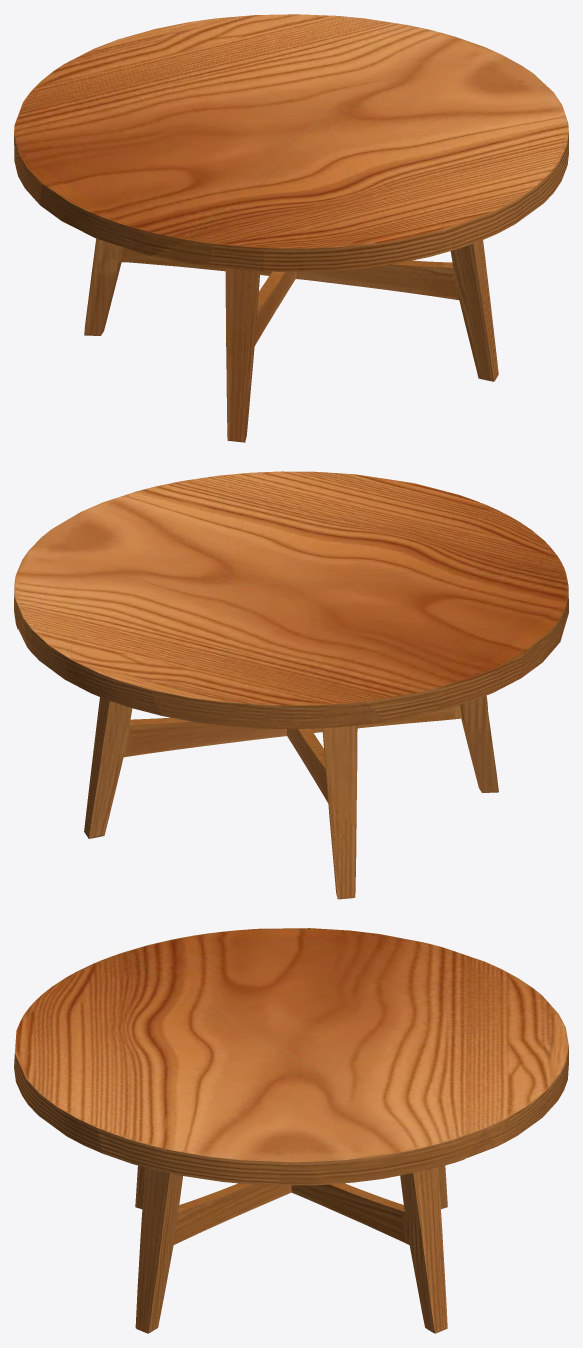
Rendered from table.glb.
3 renders of one model, top to bottom at view 1: azimuth 30°, elevation 25°; view 2: azimuth 150°, elevation 25°; view 3: azimuth 270°, elevation 25°, orthographic.
Size of the model in its own units: 1.89 by 0.8412 by 1.9.
1 material, 1 textured.
